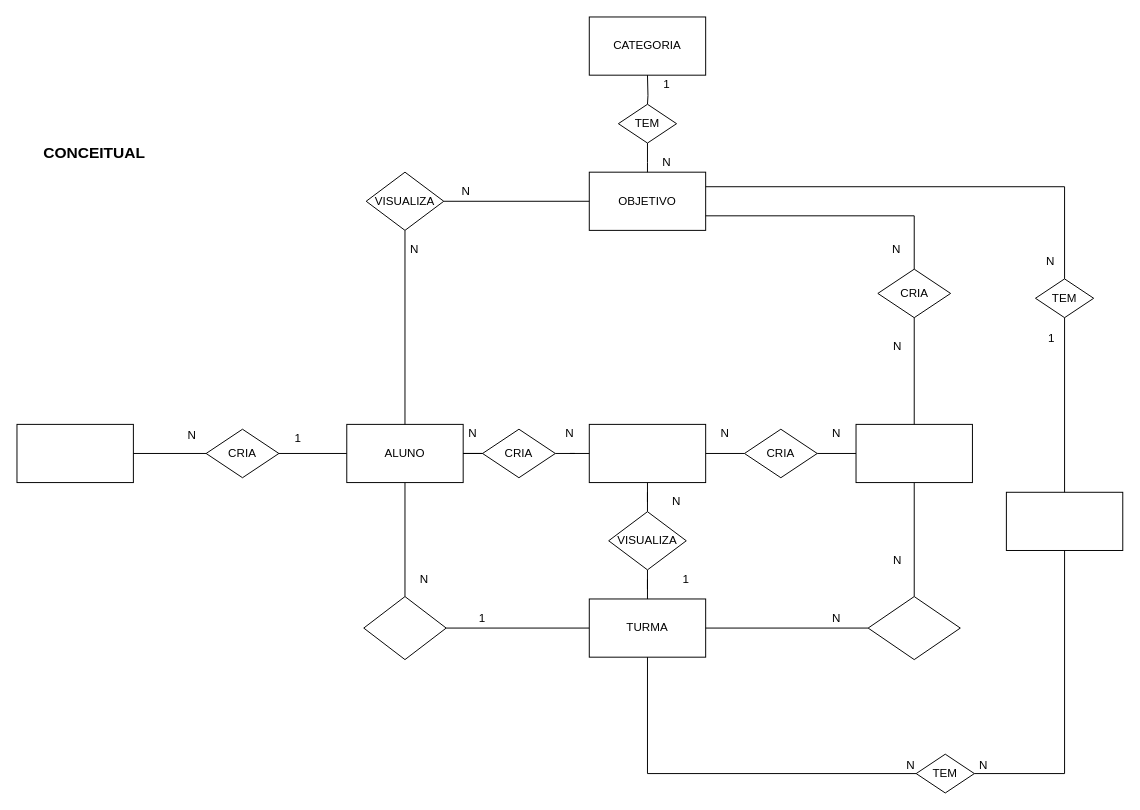
Image size: 1140x810. Some labels were removed from this diagram. Here are the shapes that lost their labels. From the top down, the centre of each, then its label:
(x=74, y=453): DICAS
(x=647, y=453): POST
(x=913, y=453): PROFESSOR
(x=1064, y=520): DISCIPLINA
(x=404, y=628): PERTENCE
(x=913, y=628): LECIONA
